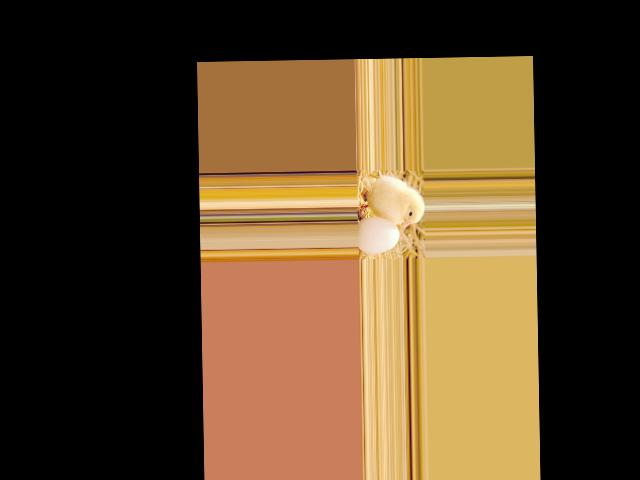egg: (356, 216, 399, 253)
